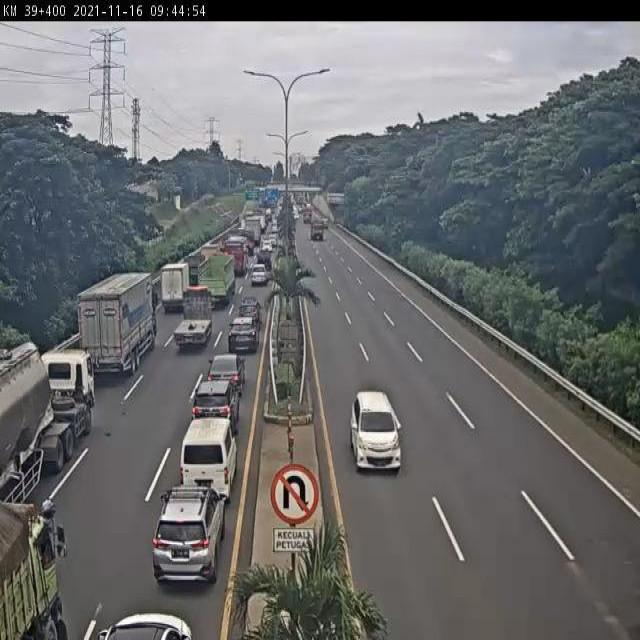big bus: (214, 240, 244, 284)
car: (152, 488, 224, 584), (349, 388, 402, 476), (180, 419, 235, 500), (188, 382, 236, 446), (205, 355, 242, 397), (226, 315, 258, 353), (235, 298, 262, 330), (247, 260, 268, 288)
truck-l-: (80, 268, 160, 377), (192, 257, 234, 312)
truck-m-: (172, 293, 213, 352), (159, 258, 190, 306), (177, 253, 206, 296)
